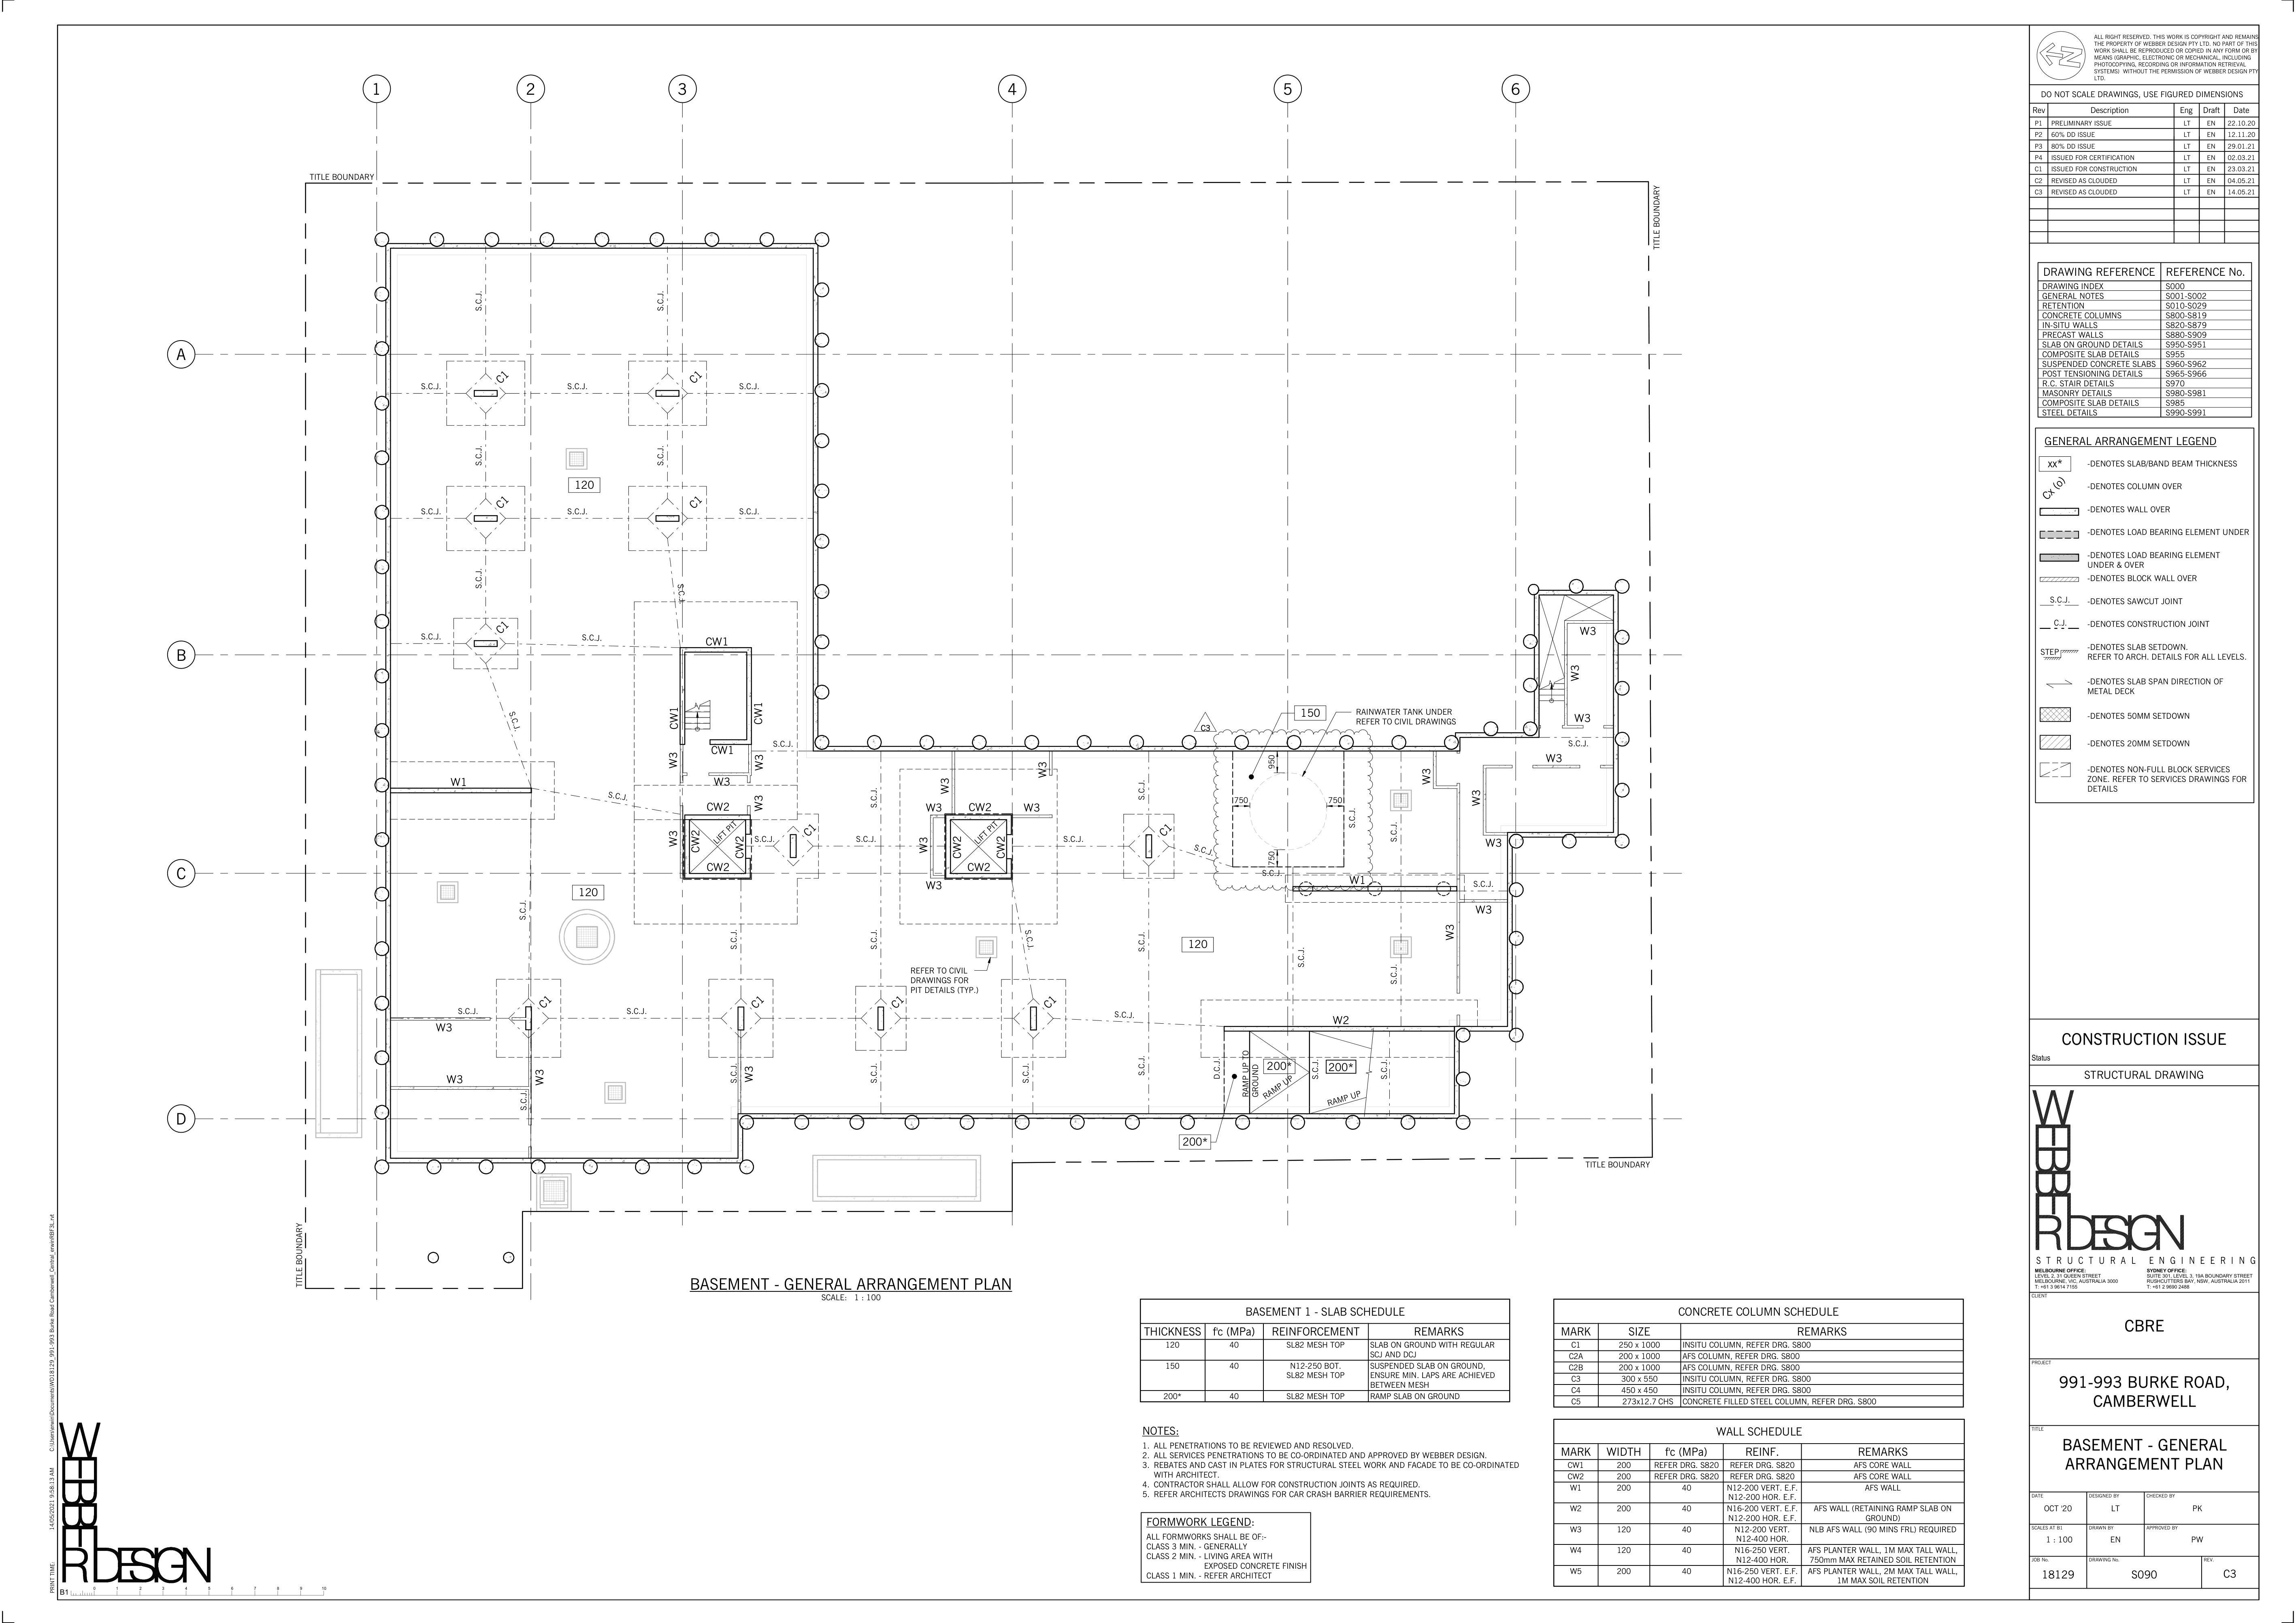C1: (891, 989, 915, 1013), (682, 364, 706, 386), (1042, 991, 1066, 1012), (494, 618, 515, 639), (488, 365, 511, 385), (1154, 819, 1175, 838), (799, 820, 819, 840), (492, 497, 511, 515), (536, 994, 555, 1010), (748, 992, 764, 1012), (690, 495, 704, 511)
CW1: (697, 631, 736, 650), (666, 701, 685, 734), (752, 697, 768, 729), (708, 743, 738, 759)
CW2: (704, 859, 734, 878), (991, 833, 1012, 859), (729, 834, 748, 862), (704, 797, 731, 815), (966, 799, 994, 815), (966, 859, 994, 875), (687, 827, 703, 854), (952, 833, 966, 859)
W1: (439, 773, 474, 790), (1346, 871, 1370, 885)
W2: (1321, 1010, 1358, 1029)
W3: (1541, 747, 1572, 768), (425, 1019, 458, 1036), (1569, 710, 1599, 729), (1481, 831, 1505, 850), (1467, 787, 1484, 812), (657, 827, 678, 847), (1440, 922, 1462, 941), (942, 771, 959, 794), (1576, 624, 1600, 639), (532, 1070, 550, 1091), (1021, 799, 1043, 815), (1419, 762, 1435, 785), (443, 1071, 467, 1086), (922, 880, 950, 892), (668, 752, 685, 771), (743, 1064, 759, 1086), (715, 771, 734, 787), (1035, 757, 1047, 780), (924, 801, 947, 813), (754, 794, 768, 813), (1569, 660, 1581, 682), (1474, 901, 1491, 915), (754, 752, 766, 771), (919, 836, 931, 852)
